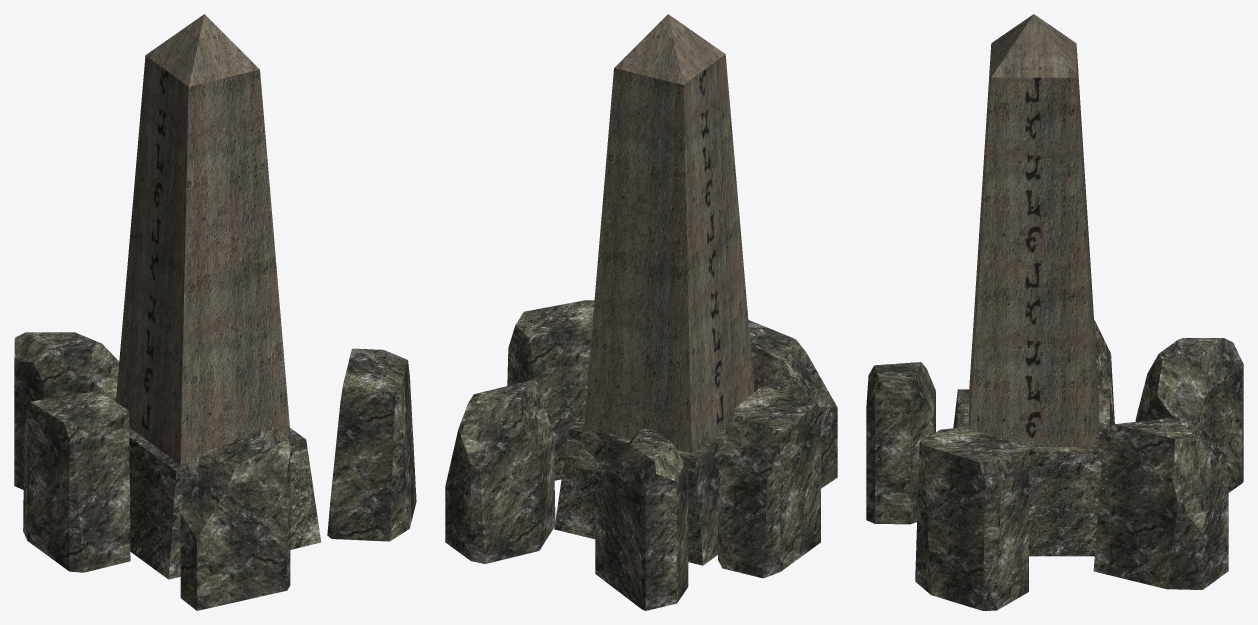
The model's file is architecture_bindpoint.glb.
3 views of the same model, side by side, from view 1: azimuth 30°, elevation 25°; view 2: azimuth 150°, elevation 25°; view 3: azimuth 270°, elevation 25° (orthographic). The views are drawn at different scales.
Parts seen in each view (by area): view 1: bindpoint; view 2: bindpoint; view 3: bindpoint.
Part boxes in pixels (<box>): bindpoint: <box>14,14,416,610</box>; bindpoint: <box>445,14,837,610</box>; bindpoint: <box>866,14,1243,610</box>.
Size of the model in its own units: 8.49 by 12.55 by 8.46.
3 materials, 3 textured.
